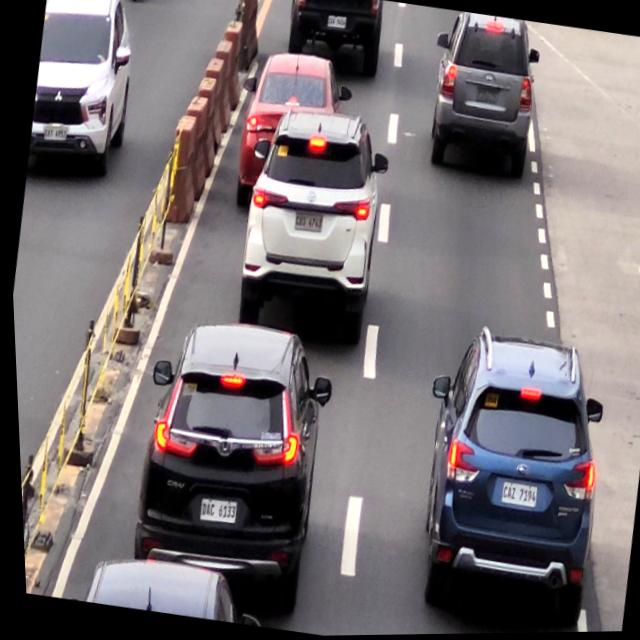Car: (401, 325, 621, 620), (119, 316, 335, 603), (228, 112, 390, 352), (418, 9, 545, 180), (228, 49, 340, 205), (77, 554, 242, 626)
License-Plate: (493, 477, 539, 512), (191, 492, 234, 526), (290, 209, 324, 236), (475, 84, 502, 107), (327, 16, 346, 31)
